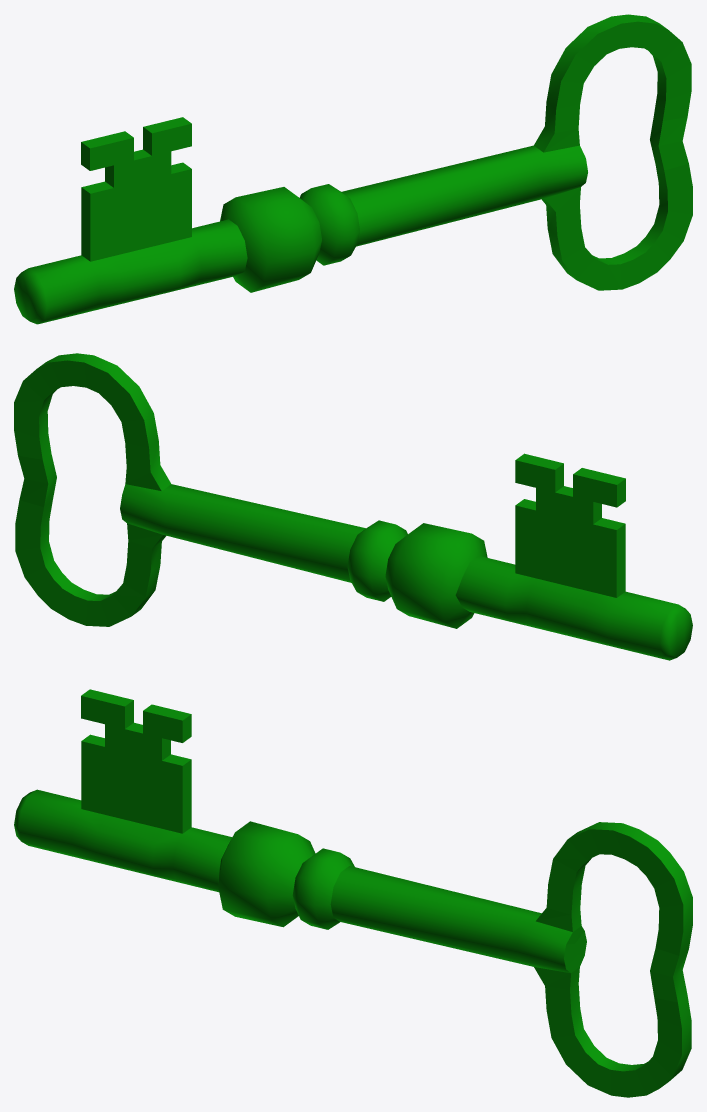
Rendered from Green Key.fbx.
3 renders of one model, top to bottom at view 1: azimuth 30°, elevation 25°; view 2: azimuth 150°, elevation 25°; view 3: azimuth 330°, elevation 25°, orthographic.
Visible parts, largest first — view 1: Key_B; view 2: Key_B; view 3: Key_B.
Boxes of the visible parts, bbox=[...] form: Key_B: bbox=[14, 14, 692, 324]; Key_B: bbox=[14, 353, 692, 660]; Key_B: bbox=[14, 689, 692, 1097].
Size of the model in its own units: 9.16 by 3.58 by 1.18.
